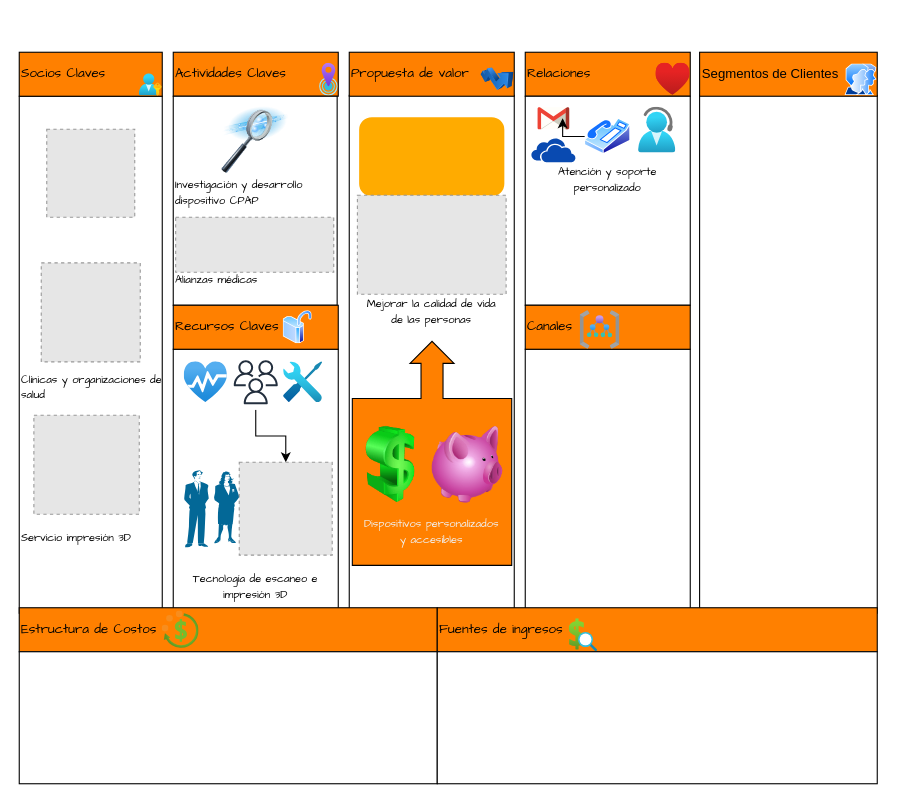
This 897x803 diagram has some shape labels left out. Grey dashed boxes stand in for pictures. The centre of each missing label's shape, as x and y in pixels:
Bienestar, concientización y salud en el sueño de las personas .: pixel 431 156
Equipo de Bioingenieros Médicos: pixel 255 382
